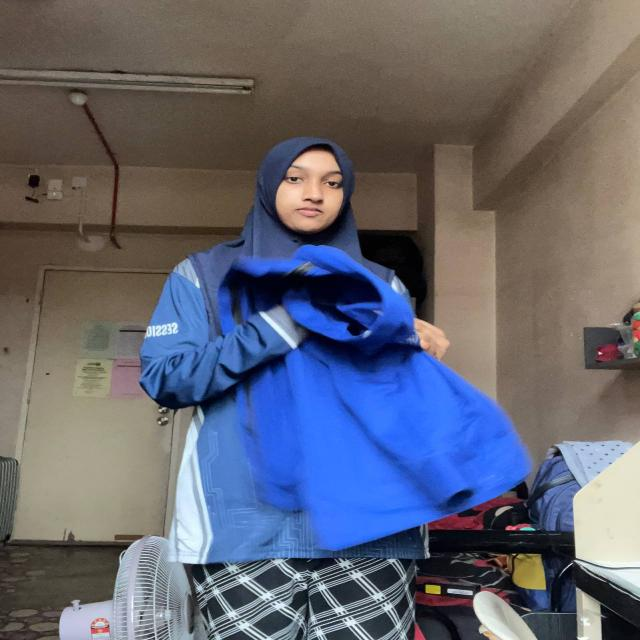person_without_labcoat: (139, 138, 530, 640)
